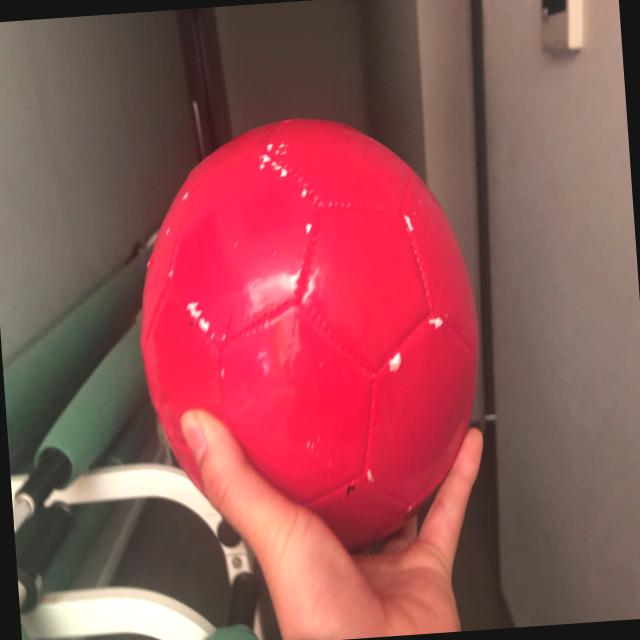red_ball: (122, 107, 492, 562)
